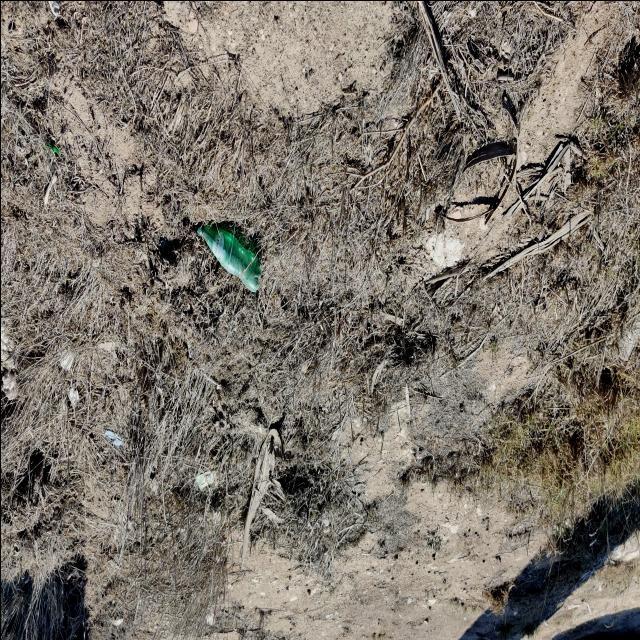Clear plastic bottle: (196, 221, 261, 291)
Other plastic bottle: (41, 144, 60, 154)
Plastic bottle cap: (196, 220, 201, 233)
Plastic film: (1, 369, 17, 398)
Unlabeled litter: (195, 469, 217, 489), (103, 429, 121, 447)
